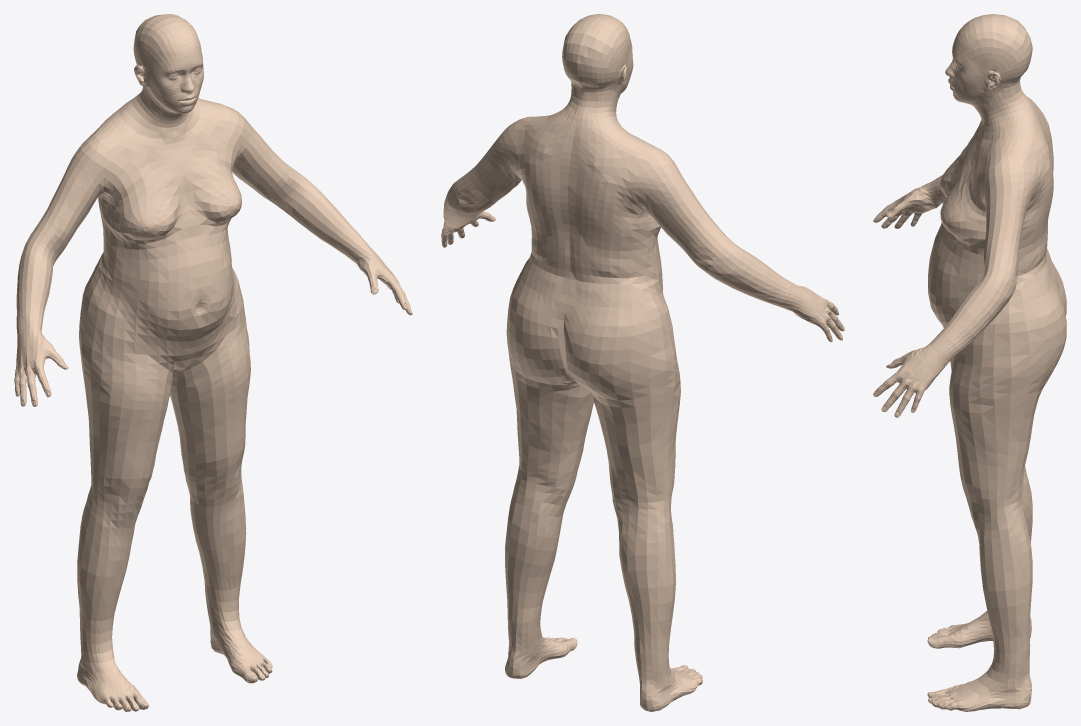
File: female-adult-max-low.glb
3 views of the same model, side by side, from view 1: azimuth 30°, elevation 25°; view 2: azimuth 150°, elevation 25°; view 3: azimuth 270°, elevation 25° (orthographic).
Parts seen in each view (by area): view 1: world; view 2: world; view 3: world.
Boxes of the visible parts, x1,y1,x2,y2 form: world: (14, 14, 412, 711); world: (441, 14, 844, 711); world: (873, 14, 1066, 711).
Size of the model in its own units: 1.12 by 1.81 by 0.4834.
